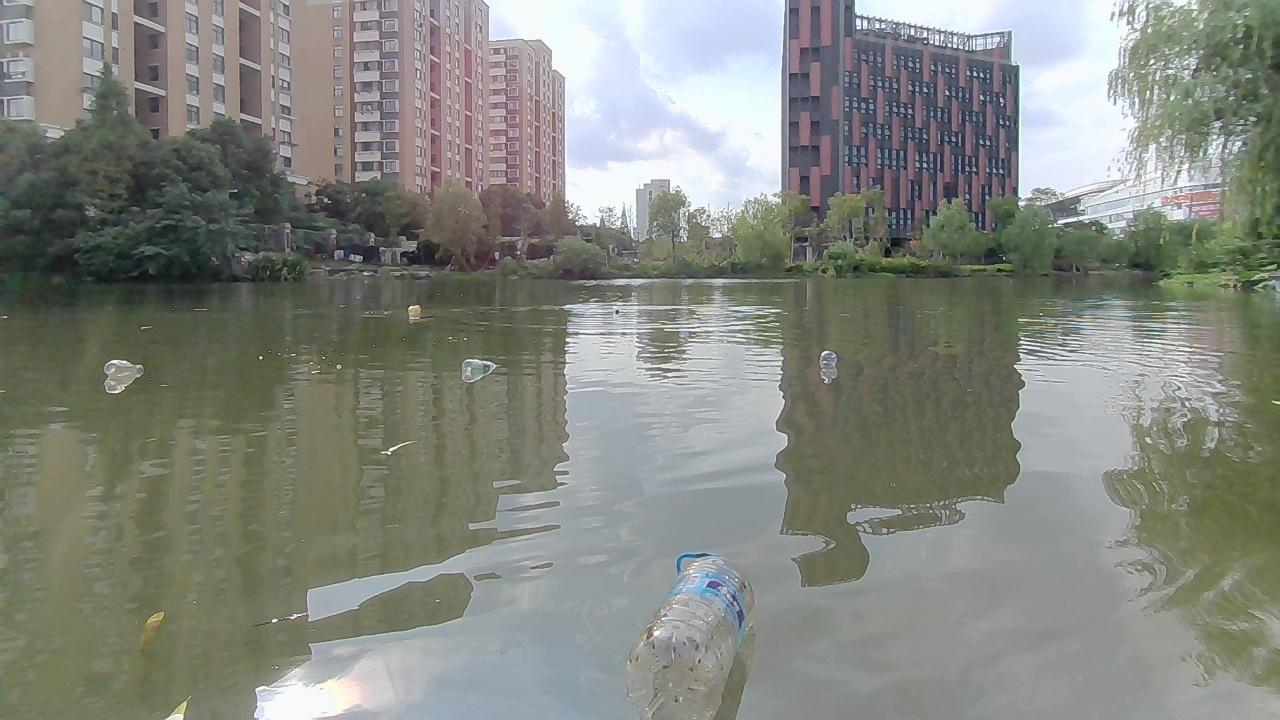bottle: (620, 553, 751, 707), (102, 357, 143, 382), (454, 357, 500, 378), (815, 350, 845, 370), (406, 301, 424, 322), (610, 303, 620, 319)
